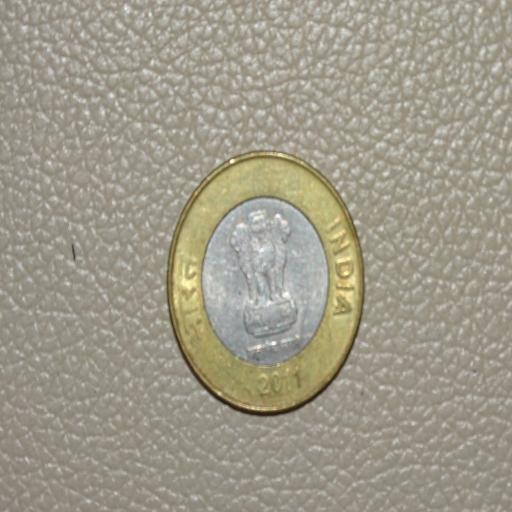rupee10: (160, 146, 366, 418)
